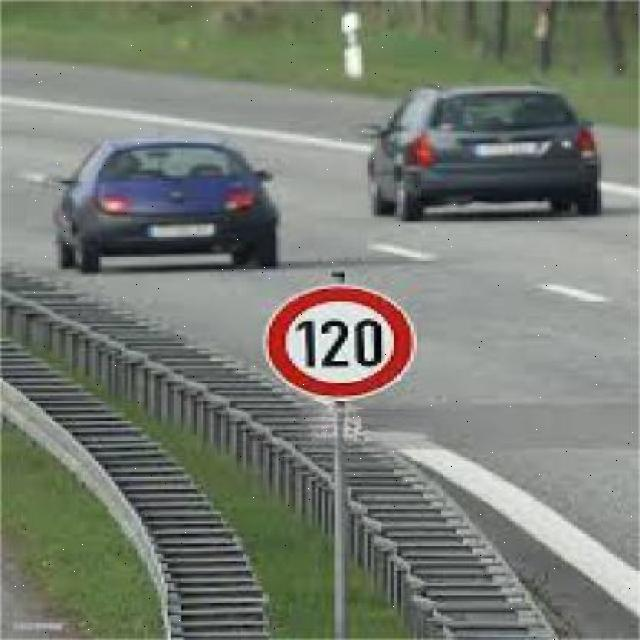speed limit 120: (263, 282, 416, 400)
